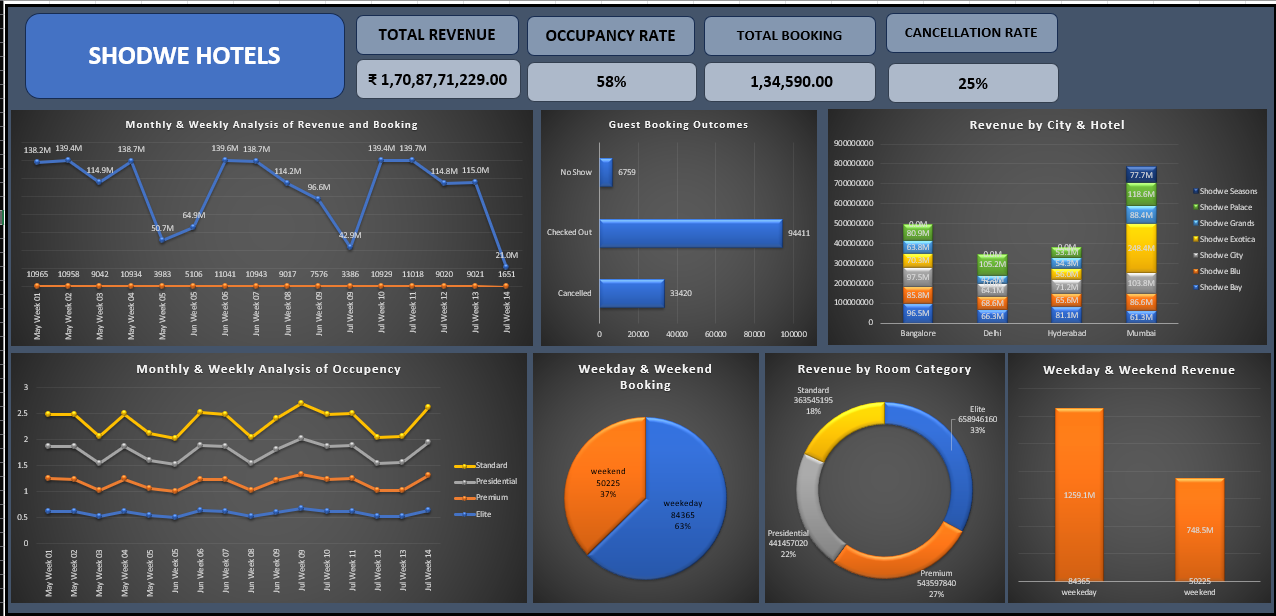

The dashboard page shown, as its layout file describes it:
{"tool":"tableau","page":{"name":"Dashboard 1","canvas":[1000,1000],"units":"permille","ordinal":0},"visuals":[{"type":"filter","title":"Booking Outcome","param":"[federated.1vksvlt178vvny11s6ptz175mfc6].[none:room_category (dim_rooms.csv):nk]","box":[727.8,7.4,132.2,124.1]},{"type":"filter","title":"Revenue by City & Hotel","param":"[federated.1vksvlt178vvny11s6ptz175mfc6].[none:city:nk]","box":[864.8,7.4,132.2,124.1]},{"type":"worksheet","title":"Total Booking","mark":"Automatic","box":[228.4,8.7,120.2,124.1]},{"type":"worksheet","title":"Total Revenue","mark":"Automatic","box":[352.2,9.9,120.2,124.1]},{"type":"worksheet","title":"Occupancy%","mark":"Automatic","box":[476.6,9.9,120.2,124.1]},{"type":"text","box":[15,11.2,207.3,120.4]},{"type":"worksheet","title":"Cancellation %","mark":"Automatic","box":[600.4,11.2,120.2,124.1]},{"type":"worksheet","title":"Weekly Revenue & Occupancy","mark":"Line","rows":["Calculation_1057189467152384","Calculation_1057189468569602"],"cols":["check_in_date"],"box":[7.2,145.2,646,492.6]},{"type":"worksheet","title":"Revenue by City & Hotel","mark":"Automatic","rows":["Calculation_1057189467152384"],"cols":["city"],"box":[659.2,145.2,336.5,490.1]},{"type":"worksheet","title":"Weekend & Weekday Rev","mark":"Pie","cols":["Calculation_1057189487374357","Calculation_1057189487374357"],"box":[300.5,643.9,384,347.4]},{"type":"worksheet","title":"Booking Outcome","mark":"Automatic","rows":["booking_status"],"cols":["Calculation_1057189467623425"],"box":[690.5,643.9,304.1,344.9]},{"type":"worksheet","title":"Classwise Rev","mark":"Automatic","cols":["Calculation_1057189487374357","Calculation_1057189487374357"],"box":[8.4,645.2,286.7,348.6]}]}

Visuals, with their boxes on the dashboard's canvas, which has no fixed pixel size, in thousandths of its width and height (x1, y1, x2, y2). These are canvas units, not pixel positions in the 1276x616 screenshot, which may show the page scaled, cropped or inside an application window:
"Booking Outcome" filter: [x1=728, y1=7, x2=860, y2=132]
"Revenue by City & Hotel" filter: [x1=865, y1=7, x2=997, y2=132]
"Total Booking" worksheet: [x1=228, y1=9, x2=349, y2=133]
"Total Revenue" worksheet: [x1=352, y1=10, x2=472, y2=134]
"Occupancy%" worksheet: [x1=477, y1=10, x2=597, y2=134]
text: [x1=15, y1=11, x2=222, y2=132]
"Cancellation %" worksheet: [x1=600, y1=11, x2=721, y2=135]
"Weekly Revenue & Occupancy" worksheet (Line marks): [x1=7, y1=145, x2=653, y2=638]
"Revenue by City & Hotel" worksheet: [x1=659, y1=145, x2=996, y2=635]
"Weekend & Weekday Rev" worksheet (Pie marks): [x1=300, y1=644, x2=684, y2=991]
"Booking Outcome" worksheet: [x1=690, y1=644, x2=995, y2=989]
"Classwise Rev" worksheet: [x1=8, y1=645, x2=295, y2=994]
